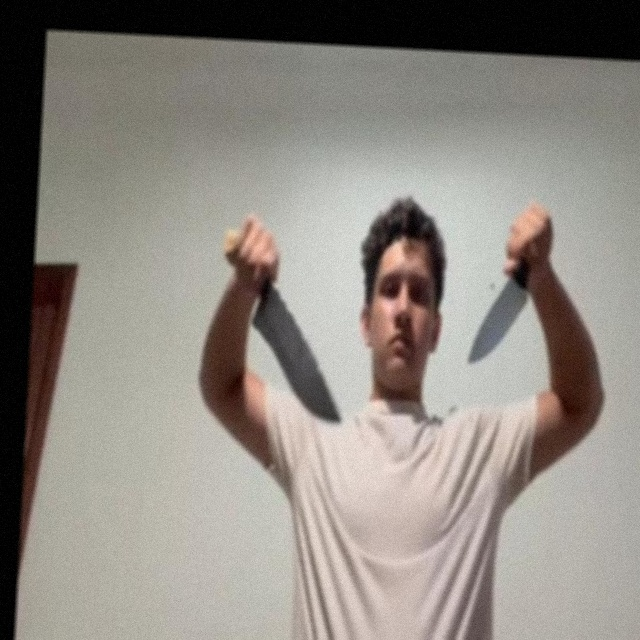Sharp-Object: (247, 282, 347, 423), (468, 274, 528, 362)
